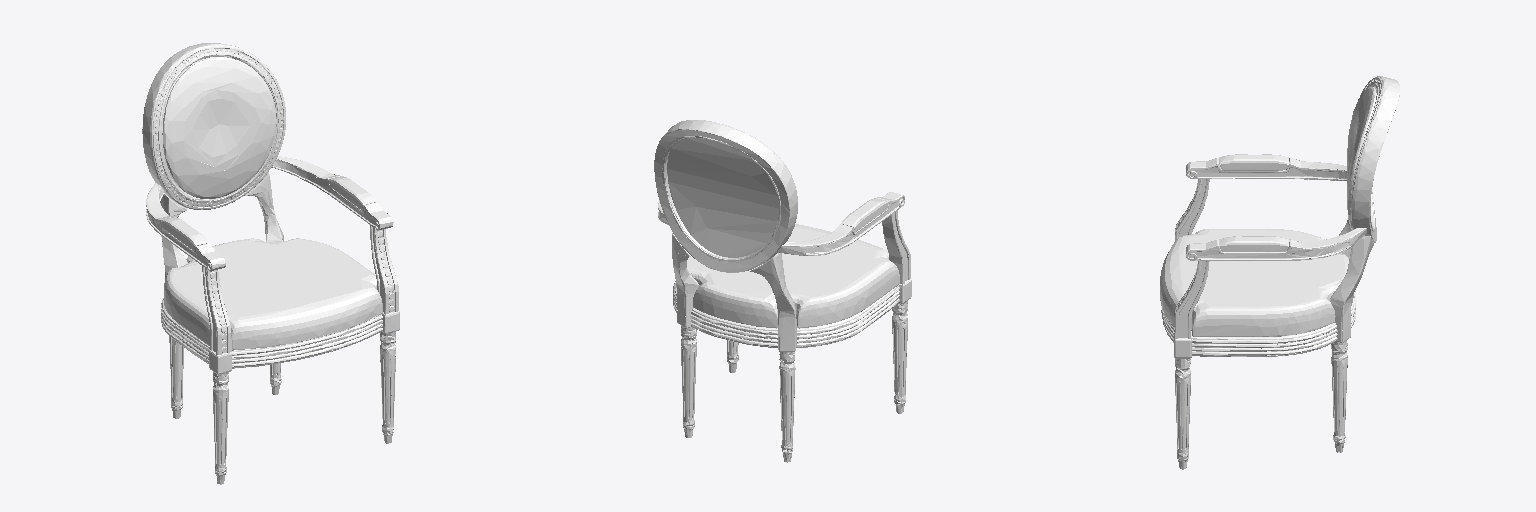
The model's file is d7b81a1c-0875-48bd-883b-6847cca5a3e2.obj.
3 renders of one model, left to right at view 1: azimuth 30°, elevation 25°; view 2: azimuth 150°, elevation 25°; view 3: azimuth 270°, elevation 25°, orthographic.
Size of the model in its own units: 0.3913 by 0.7 by 0.4456.